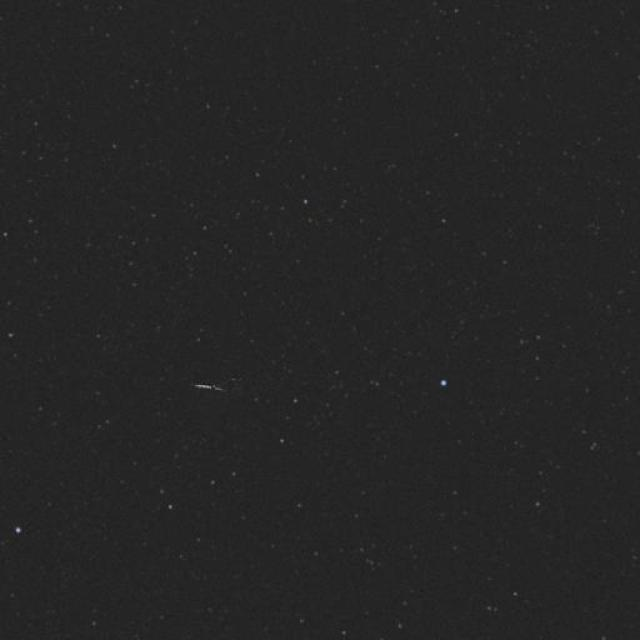debris: (182, 350, 238, 406)
